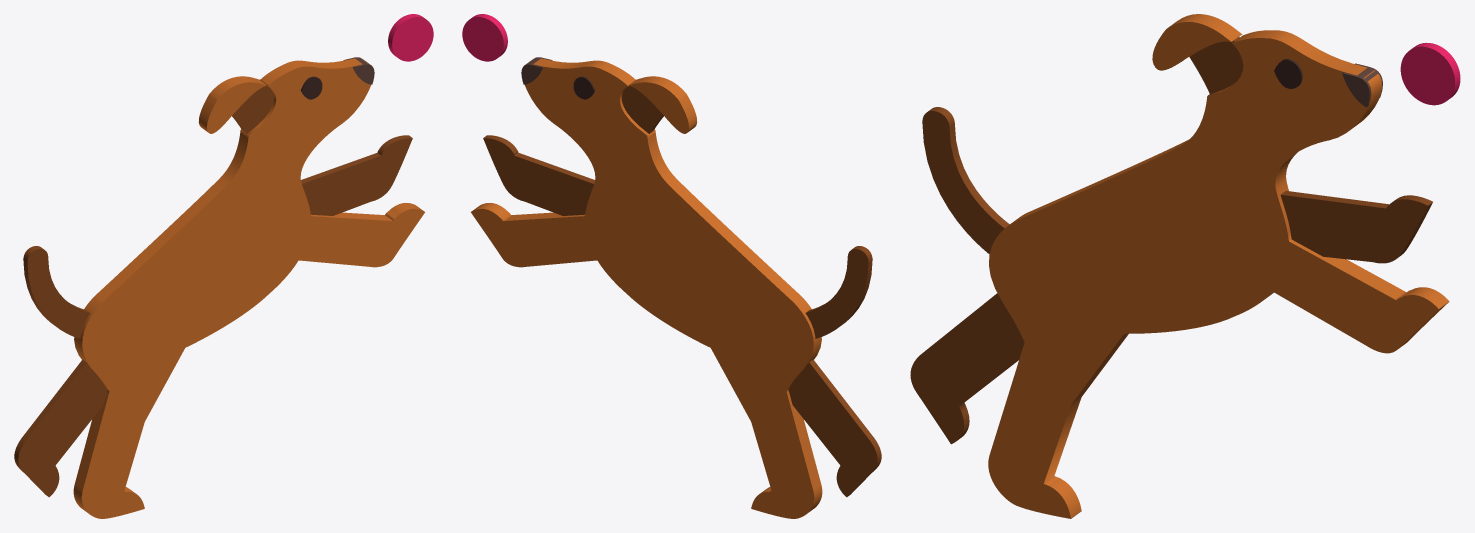
The model's file is dog.glb.
3 renders of one model, left to right at view 1: azimuth 30°, elevation 25°; view 2: azimuth 150°, elevation 25°; view 3: azimuth 330°, elevation 25°, orthographic. The views are drawn at different scales.
Visible parts, largest first — view 1: Curve.002, Curve, Curve.001; view 2: Curve.002, Curve, Curve.001; view 3: Curve.002, Curve, Curve.001, Curve.003, Curve.004.
Part boxes in pixels (x1,y1,x2,y2): Curve.002: (73, 58, 424, 518); Curve: (14, 86, 412, 497); Curve.001: (388, 14, 433, 61); Curve.002: (471, 58, 822, 518); Curve: (483, 86, 881, 497); Curve.001: (462, 14, 507, 61); Curve.002: (988, 14, 1449, 518); Curve: (910, 37, 1432, 444); Curve.001: (1400, 42, 1460, 105); Curve.003: (1342, 63, 1382, 107); Curve.004: (1274, 58, 1302, 88).
Size of the model in its own units: 1.51 by 1.47 by 0.0641.
